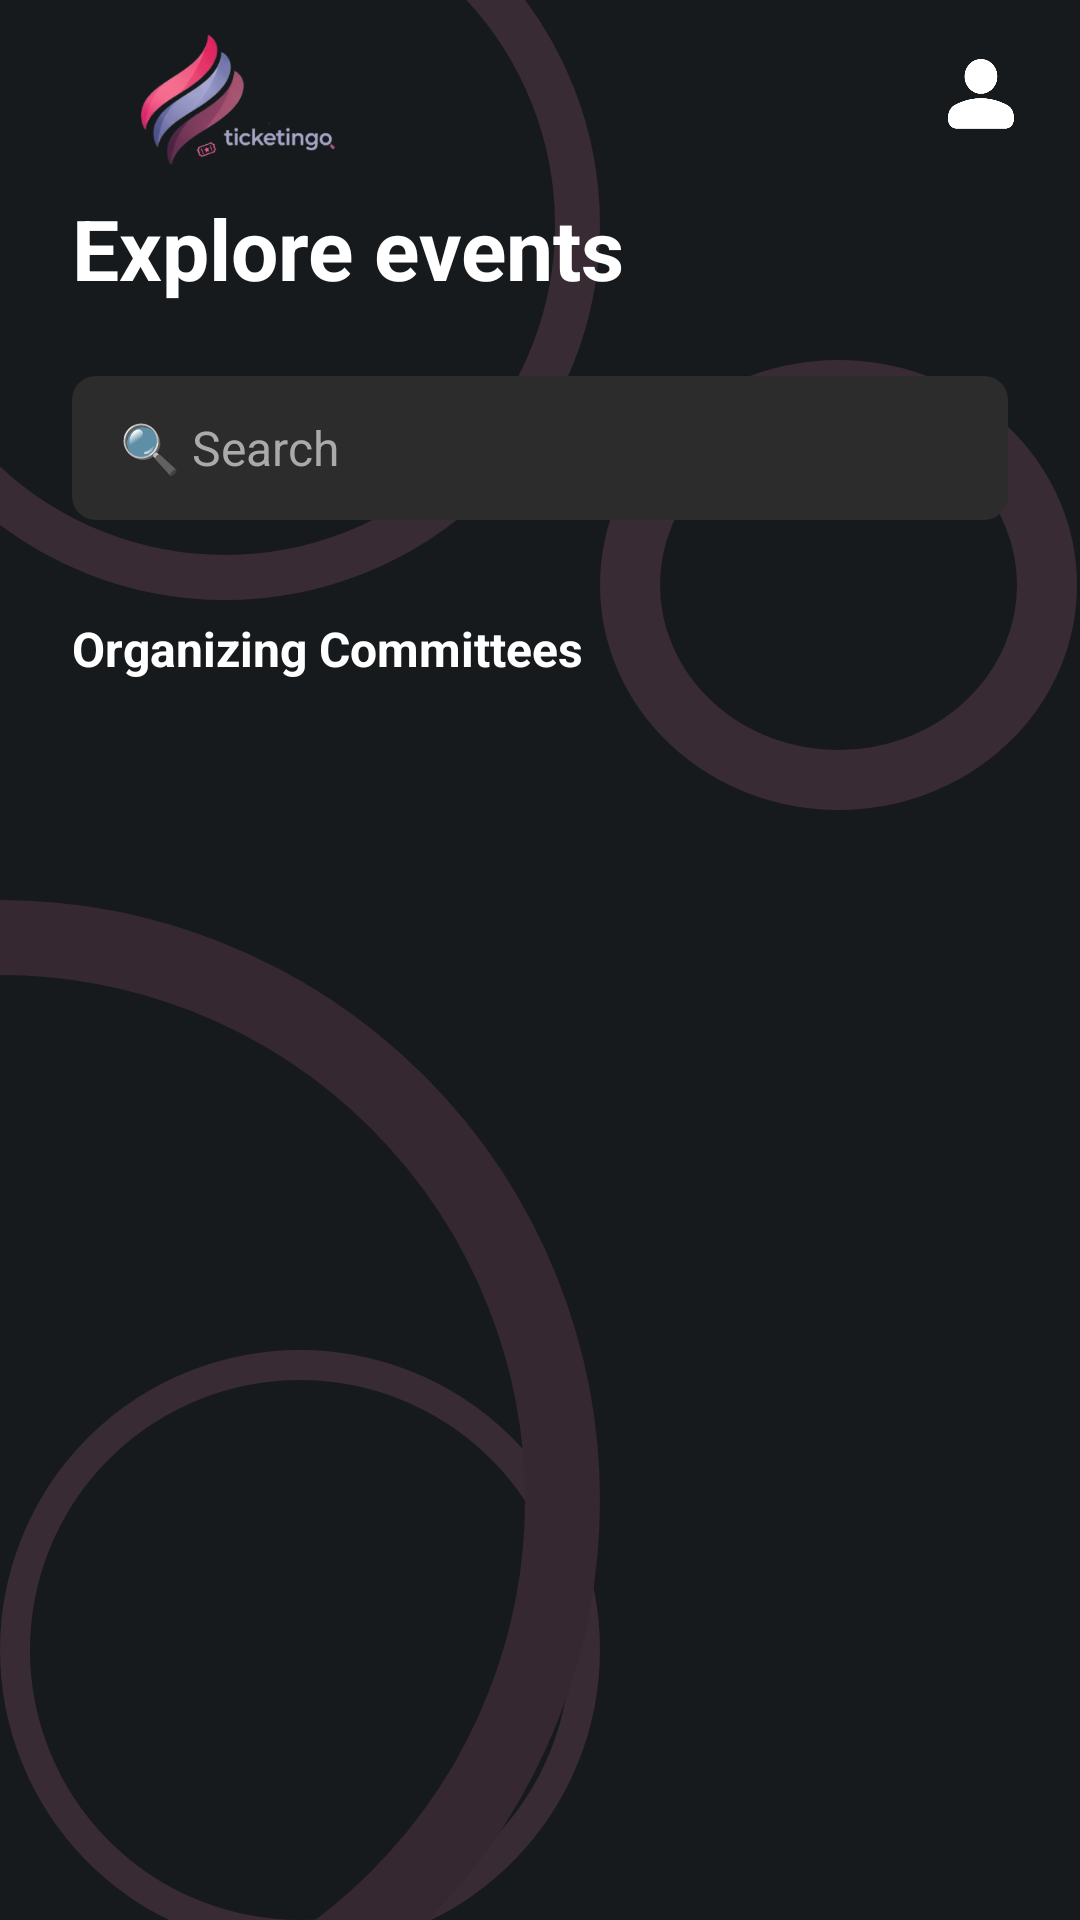

Point at icon controls on the screen. Image size 1080 × 1920, points as point (x, y).
User profile settings: point (981, 94)
